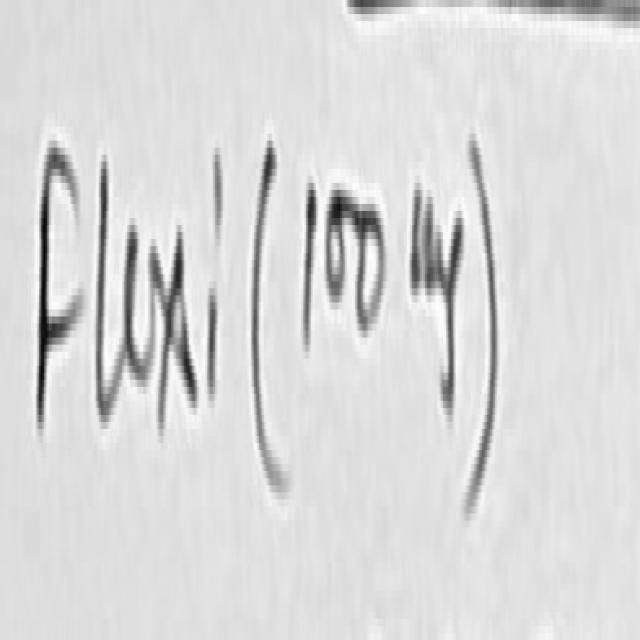0: (357, 204, 384, 327), (327, 190, 345, 295)
1: (305, 183, 318, 341)
F: (37, 141, 81, 418)
e: (125, 225, 155, 380)
g: (437, 207, 461, 407)
i: (208, 281, 218, 397), (216, 148, 223, 243)
l: (96, 155, 125, 418)
m: (410, 172, 443, 298)
x: (150, 246, 197, 425)
